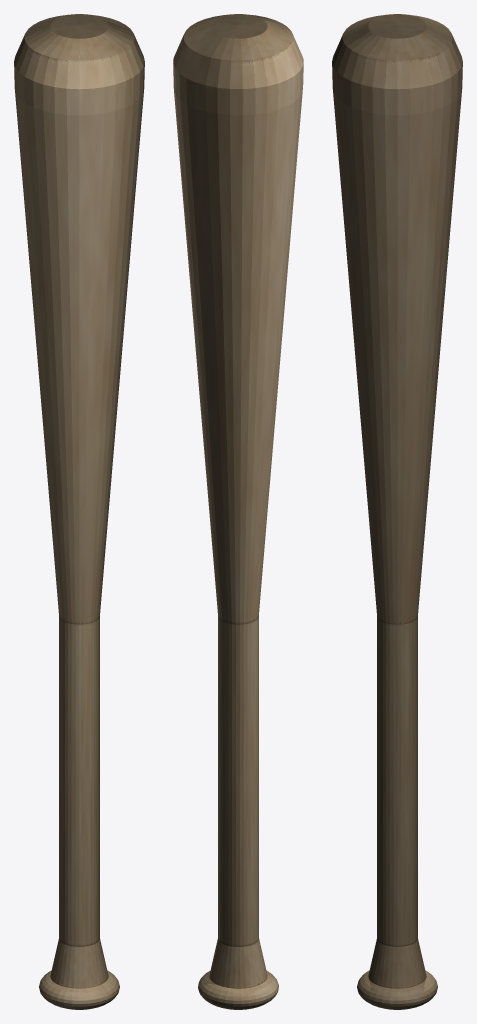
Rendered from 木製バット.fbx.
3 views of the same model, side by side, from view 1: azimuth 90°, elevation 25°; view 2: azimuth 150°, elevation 25°; view 3: azimuth 270°, elevation 25° (orthographic).
Visible parts, largest first — view 1: 先, グリップ, グリップエンド間, グリップエンド; view 2: 先, グリップ, グリップエンド間, グリップエンド; view 3: 先, グリップ, グリップエンド間, グリップエンド.
Part boxes in pixels (x1=…): 先: x1=14, y1=14, x2=144, y2=624; グリップ: x1=59, y1=616, x2=99, y2=946; グリップエンド間: x1=50, y1=938, x2=108, y2=988; グリップエンド: x1=39, y1=970, x2=119, y2=1009; 先: x1=173, y1=14, x2=303, y2=624; グリップ: x1=218, y1=616, x2=258, y2=946; グリップエンド間: x1=209, y1=938, x2=267, y2=988; グリップエンド: x1=198, y1=970, x2=278, y2=1009; 先: x1=332, y1=14, x2=462, y2=624; グリップ: x1=377, y1=616, x2=417, y2=946; グリップエンド間: x1=368, y1=938, x2=426, y2=988; グリップエンド: x1=357, y1=970, x2=437, y2=1009.
Size of the model in its own units: 168 by 1383 by 168.
1 material, 1 textured.
